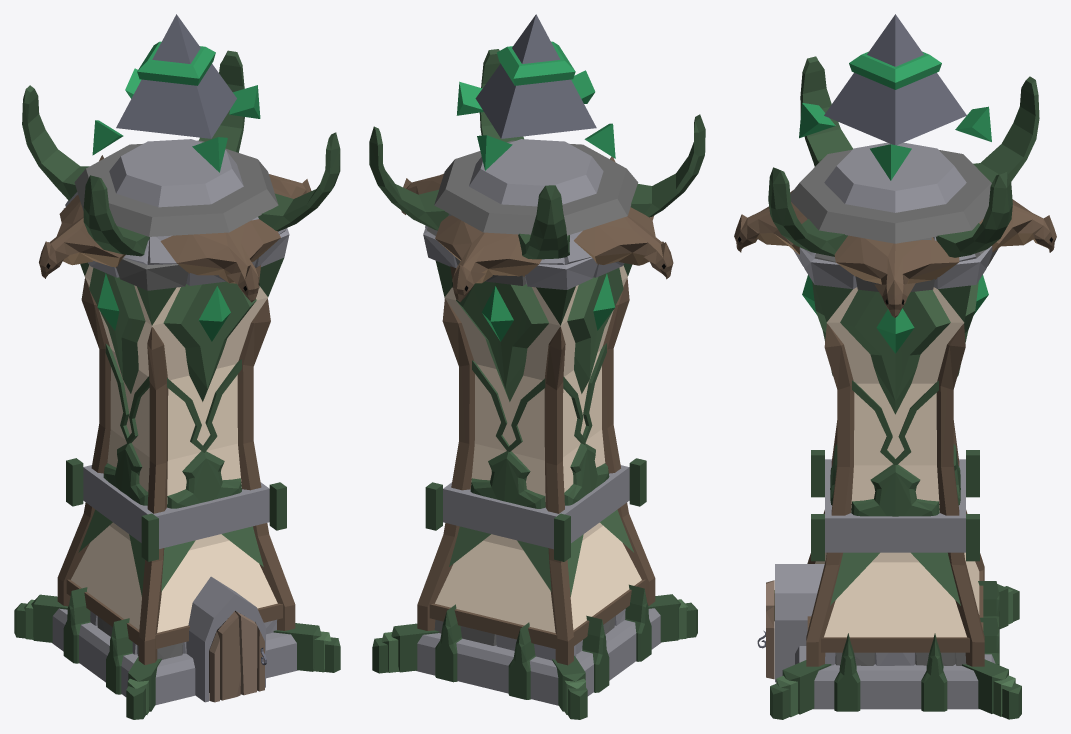
The model's file is Poison_Tower_lv4.gltf.
The picture shows the model from 3 angles, left to right: view 1: azimuth 30°, elevation 25°; view 2: azimuth 150°, elevation 25°; view 3: azimuth 270°, elevation 25°; orthographic projection. The views are drawn at different scales.
Parts seen in each view (by area): view 1: Poison_Tower_LVL_4_Body, Poison_Tower_LVL_4_Head; view 2: Poison_Tower_LVL_4_Body, Poison_Tower_LVL_4_Head; view 3: Poison_Tower_LVL_4_Body, Poison_Tower_LVL_4_Head.
Boxes of the visible parts, x1,y1,x2,y2 form: Poison_Tower_LVL_4_Body: (14, 50, 340, 719); Poison_Tower_LVL_4_Head: (92, 14, 260, 172); Poison_Tower_LVL_4_Body: (369, 49, 705, 719); Poison_Tower_LVL_4_Head: (456, 14, 615, 170); Poison_Tower_LVL_4_Body: (734, 56, 1056, 719); Poison_Tower_LVL_4_Head: (799, 14, 988, 180).
Bounding box in the file's own units: 3.42 × 7.65 × 3.42.
Materials: 2 (2 with a texture image).
